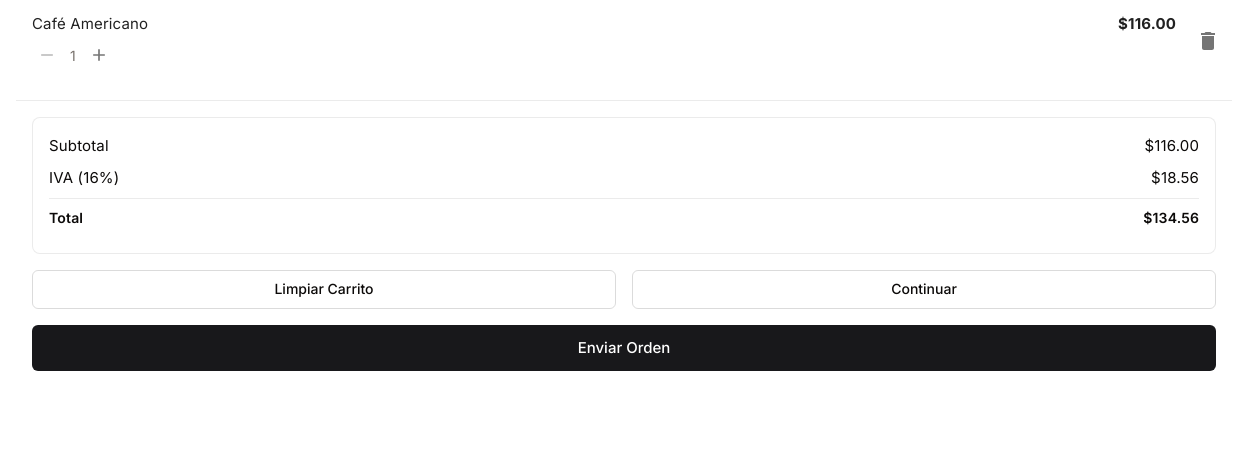
Scenario: POS flow — Cart → Orden → Pago › COUNTER flow: Enviar Orden navigates to /pos/payment
Click the button "Enviar Orden" at (624, 348), box 32,325 -> 1216,371
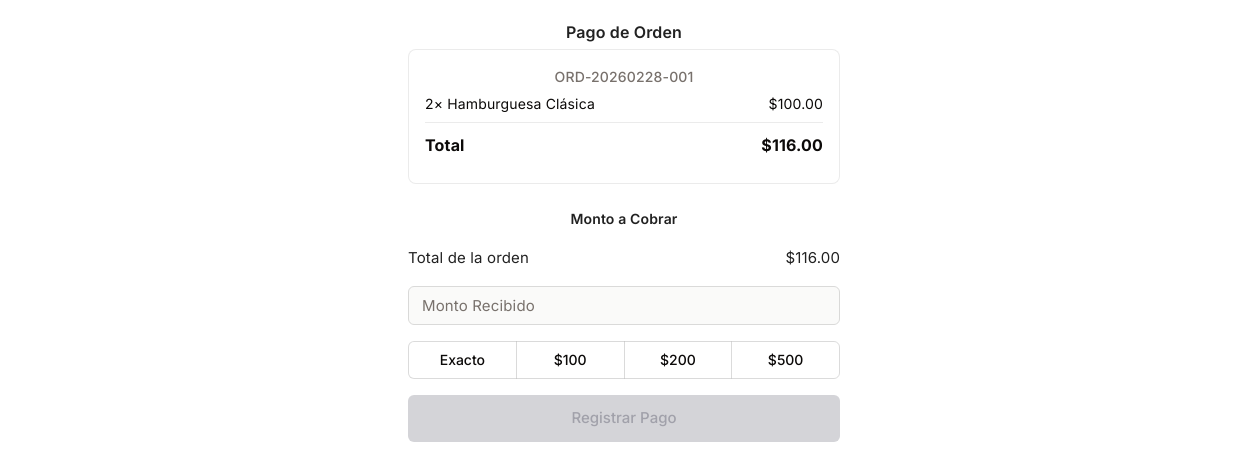
Now the heading "Pago de Orden" is shown, box 566,22 -> 682,42
